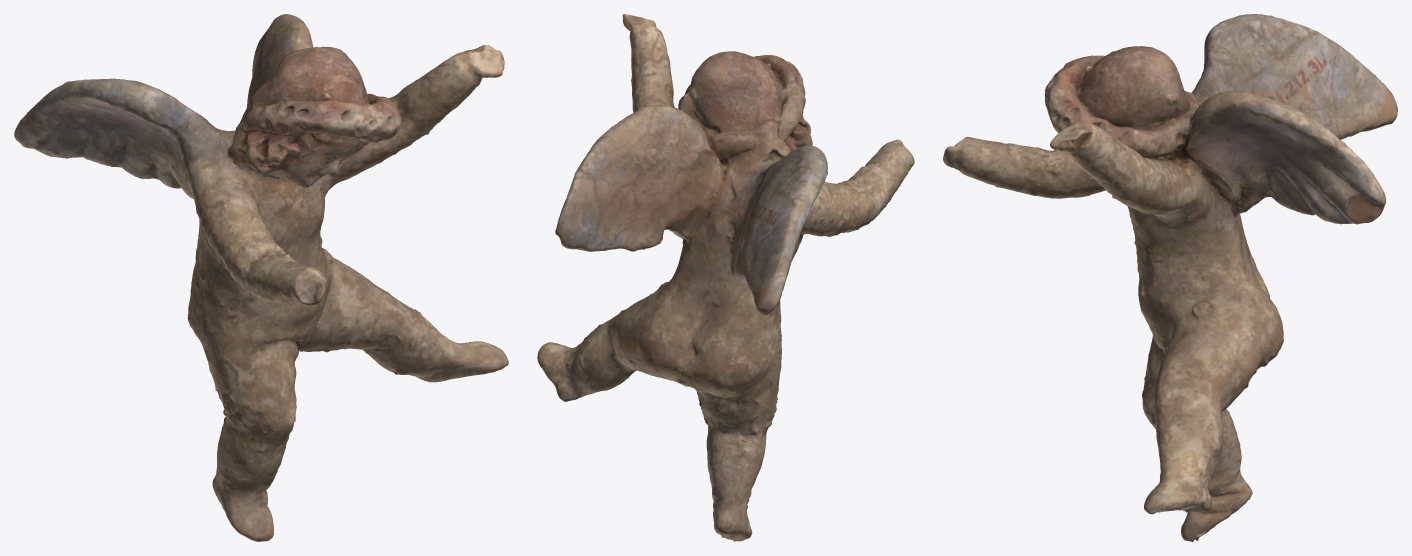
Rendered from preview.glb.
3 views of the same model, side by side, from view 1: azimuth 30°, elevation 25°; view 2: azimuth 150°, elevation 25°; view 3: azimuth 270°, elevation 25° (orthographic). The views are drawn at different scales.
Visible parts, largest first — view 1: _1_21_31_ErosCupid_n3d; view 2: _1_21_31_ErosCupid_n3d; view 3: _1_21_31_ErosCupid_n3d.
Boxes of the visible parts, left/top/right/bottom form: _1_21_31_ErosCupid_n3d: left=14, top=14, right=508, bottom=541; _1_21_31_ErosCupid_n3d: left=537, top=14, right=914, bottom=541; _1_21_31_ErosCupid_n3d: left=943, top=14, right=1397, bottom=541.
Size of the model in its own units: 0.0513 by 0.066 by 0.054.
Materials: 1 (1 with a texture image).
